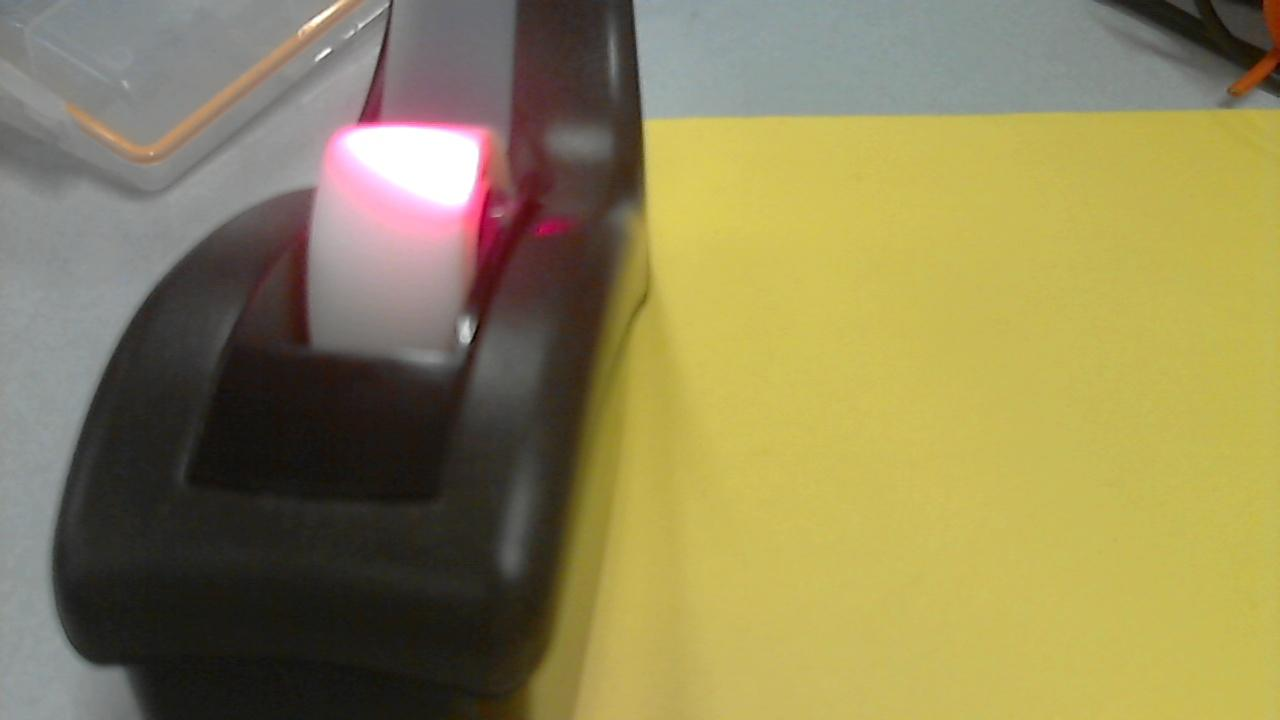Object desktop tape dispenser - Material plastic tape - Pdfname 8pMd29OsIRjD: (326, 114, 495, 227)
